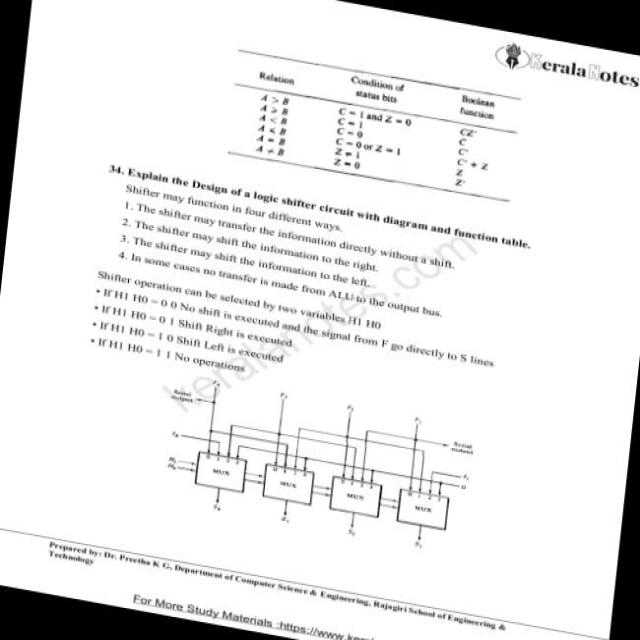Figure Detection - v3 Dataset Version2: (148, 364, 491, 570)
